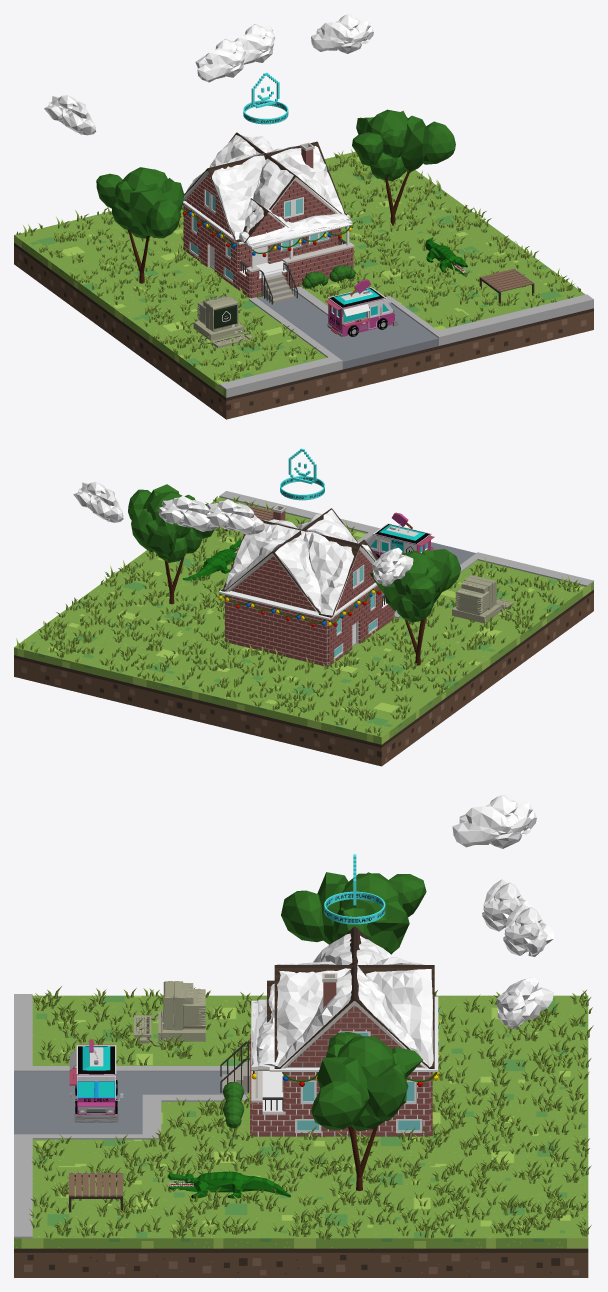
The picture shows the model from 3 angles, top to bottom: view 1: azimuth 30°, elevation 25°; view 2: azimuth 150°, elevation 25°; view 3: azimuth 270°, elevation 25°; orthographic projection. The views are drawn at different scales.
Visible parts, largest first — view 1: Cube.006, Cube.1419, Circle.012_Grass_0.192, Cube.007, tree, tree.001, VEHICLES_ICE_CREAM_TRUCK, OBJRANDOM_RETRO_PC, TYPE_PREMIUM, Cube.009, ANIMAL_COCODRILO; view 2: Cube.006, Cube.1419, Circle.012_Grass_0.192, Cube.007, tree.001, tree, OBJRANDOM_RETRO_PC, VEHICLES_ICE_CREAM_TRUCK, TYPE_PREMIUM, ANIMAL_COCODRILO; view 3: Cube.006, Circle.012_Grass_0.192, Cube.1419, tree, Cube.007, tree.001, VEHICLES_ICE_CREAM_TRUCK, OBJRANDOM_RETRO_PC, ANIMAL_COCODRILO, Cube.009, TYPE_PREMIUM.
Part boxes in pixels (x1,y1,x2,y2): Cube.006: [14, 151, 593, 419]; Cube.1419: [182, 132, 354, 304]; Circle.012_Grass_0.192: [16, 149, 580, 381]; Cube.007: [44, 14, 373, 135]; tree: [352, 109, 455, 225]; tree.001: [96, 167, 184, 283]; VEHICLES_ICE_CREAM_TRUCK: [325, 279, 398, 336]; OBJRANDOM_RETRO_PC: [193, 295, 252, 348]; TYPE_PREMIUM: [243, 72, 288, 124]; Cube.009: [479, 268, 534, 303]; ANIMAL_COCODRILO: [425, 237, 467, 275]; Cube.006: [14, 491, 593, 766]; Cube.1419: [218, 505, 394, 666]; Circle.012_Grass_0.192: [16, 496, 580, 736]; Cube.007: [73, 481, 413, 586]; tree.001: [370, 549, 460, 665]; tree: [128, 484, 214, 604]; OBJRANDOM_RETRO_PC: [452, 575, 513, 623]; VEHICLES_ICE_CREAM_TRUCK: [367, 512, 434, 557]; TYPE_PREMIUM: [280, 448, 324, 500]; ANIMAL_COCODRILO: [183, 539, 241, 580]; Cube.006: [14, 994, 588, 1277]; Circle.012_Grass_0.192: [29, 986, 593, 1239]; Cube.1419: [220, 926, 438, 1136]; tree: [311, 1032, 422, 1190]; Cube.007: [452, 795, 553, 1029]; tree.001: [281, 872, 426, 954]; VEHICLES_ICE_CREAM_TRUCK: [69, 1039, 123, 1122]; OBJRANDOM_RETRO_PC: [134, 981, 205, 1046]; ANIMAL_COCODRILO: [167, 1171, 290, 1198]; Cube.009: [69, 1172, 122, 1212]; TYPE_PREMIUM: [324, 854, 385, 924].
Size of the model in its own units: 4071 by 2317 by 4040.
Materials: 52 (4 with a texture image).
